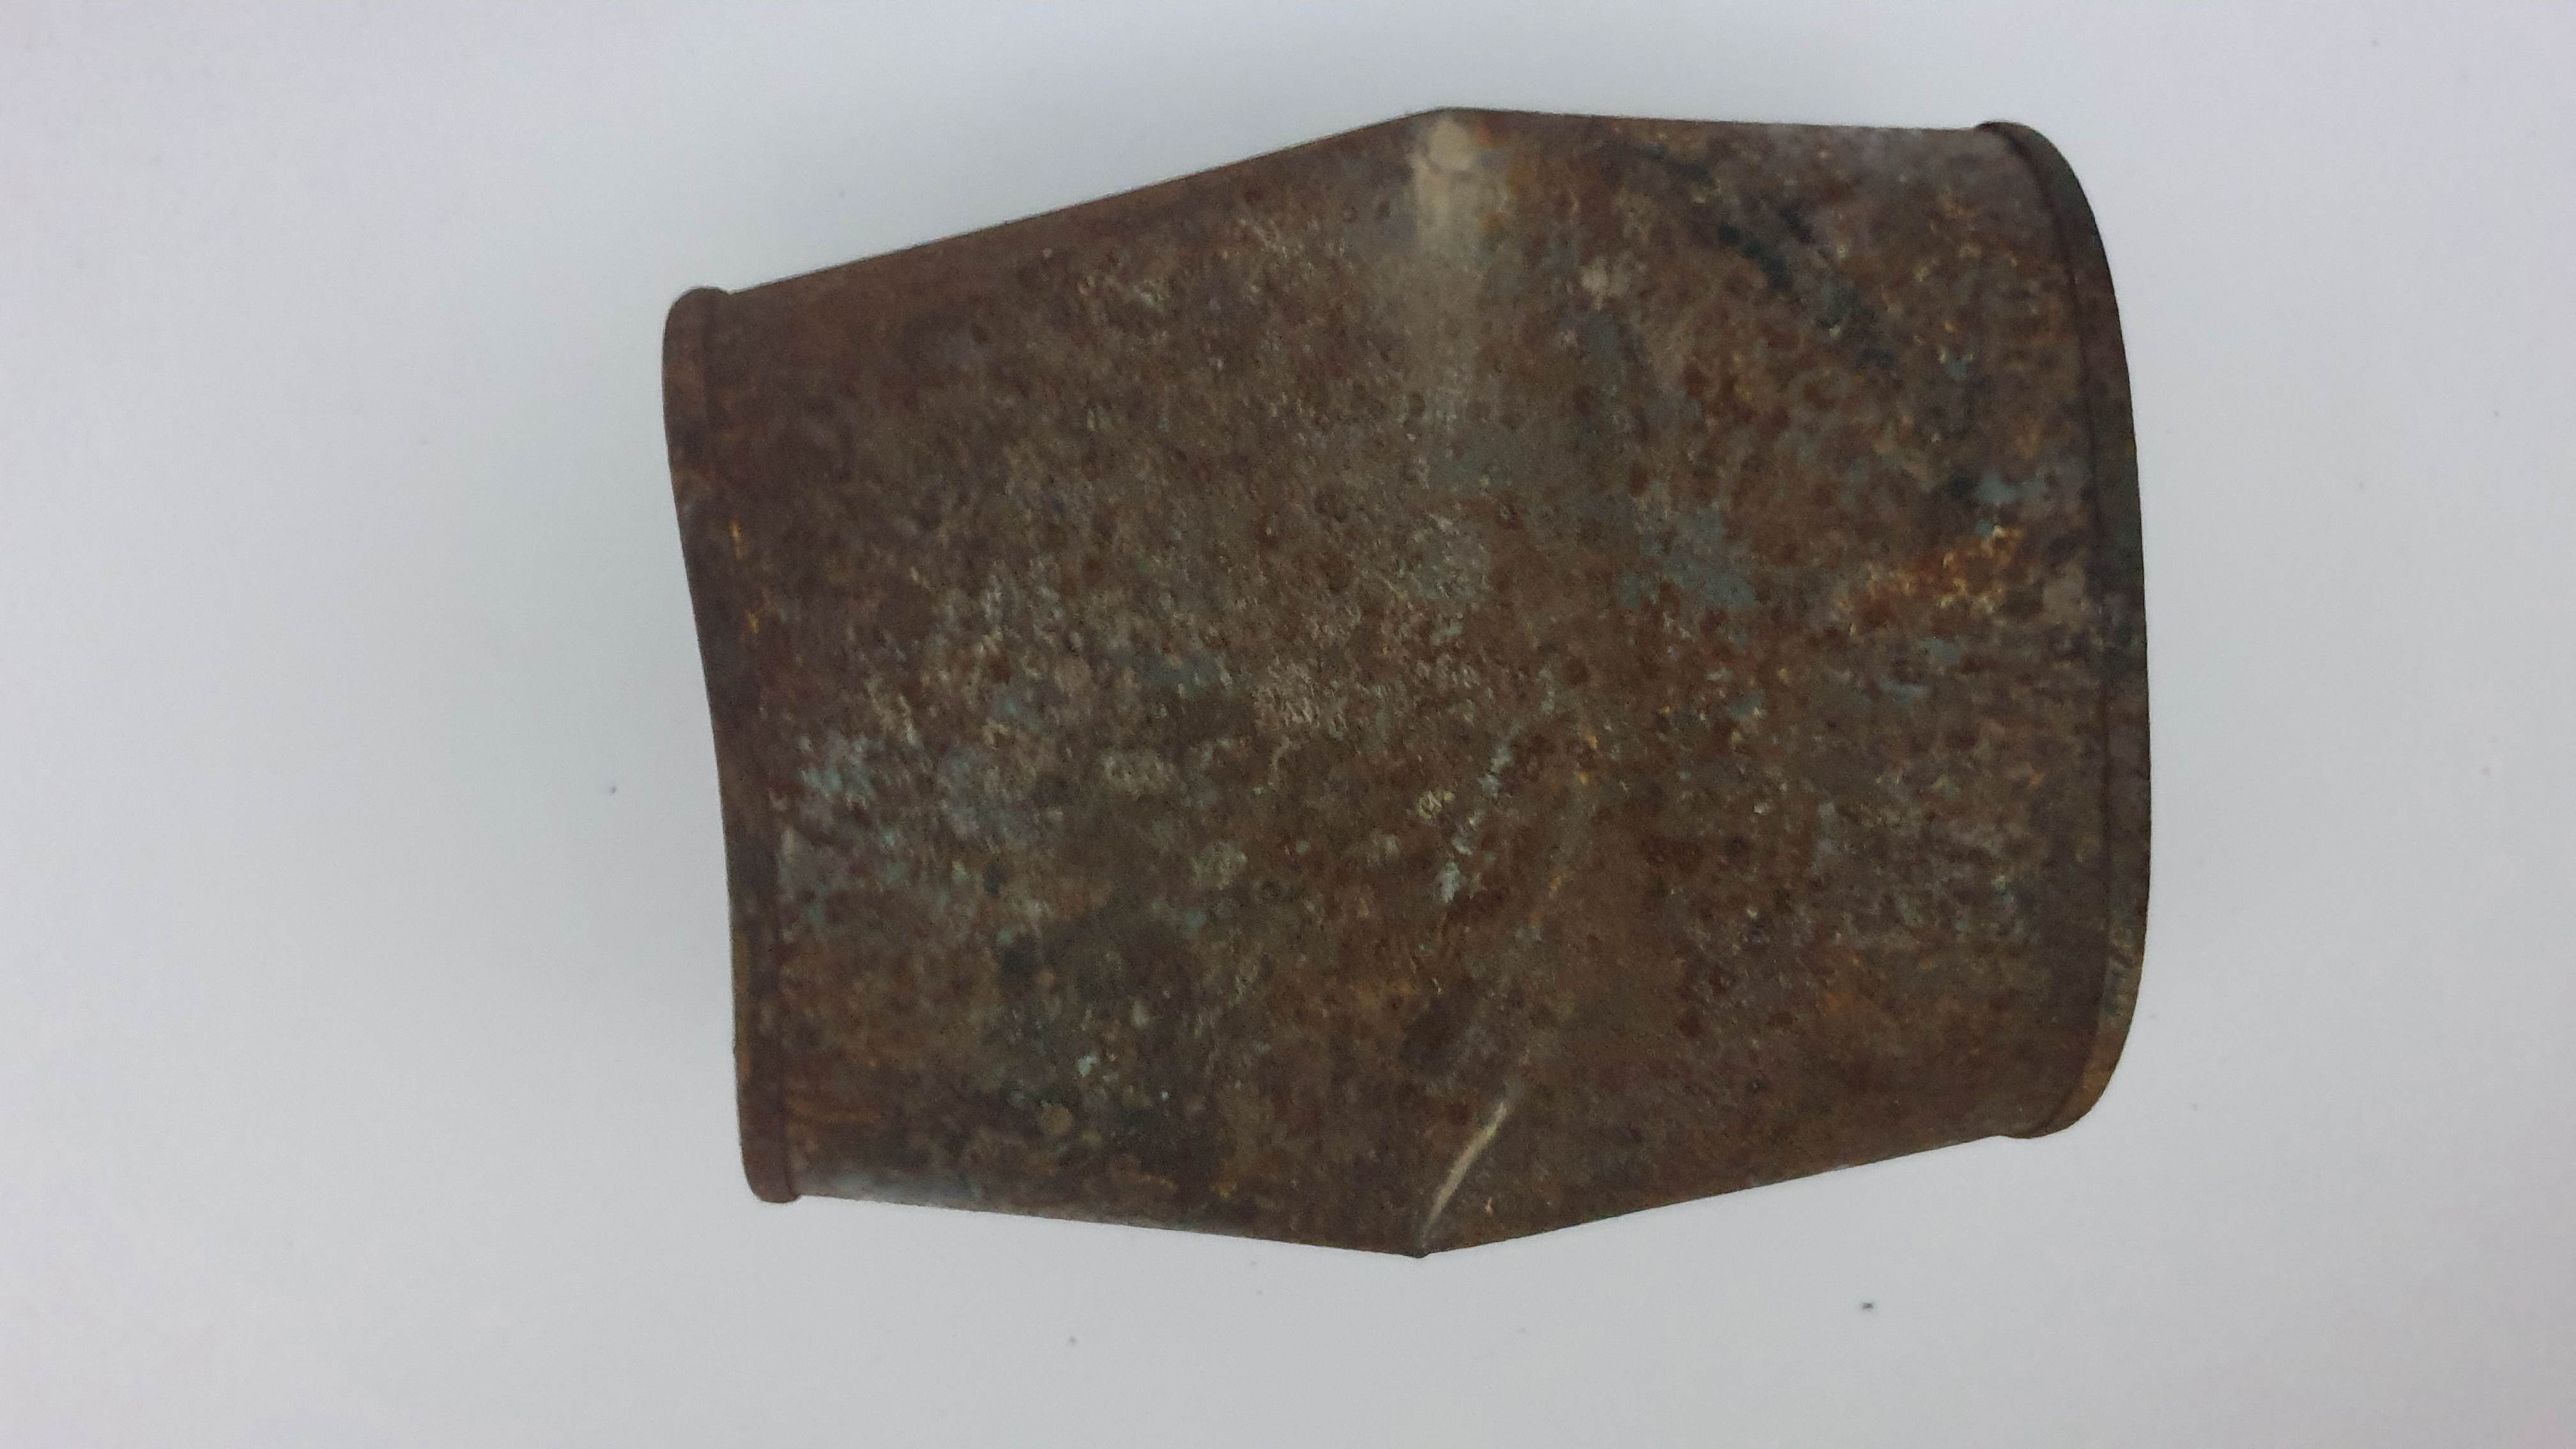metal: (633, 92, 2189, 1307)
